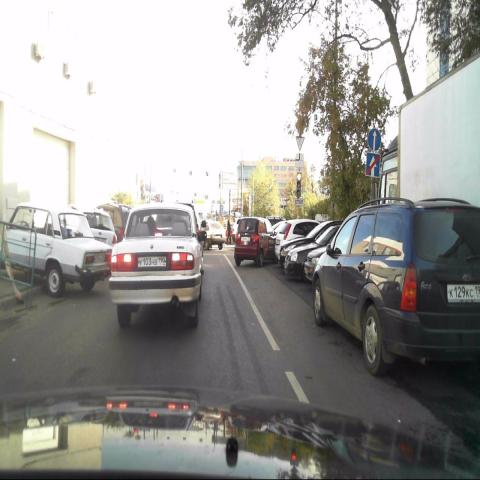4_1_1: (366, 127, 381, 153)
5_6: (366, 153, 381, 178)
